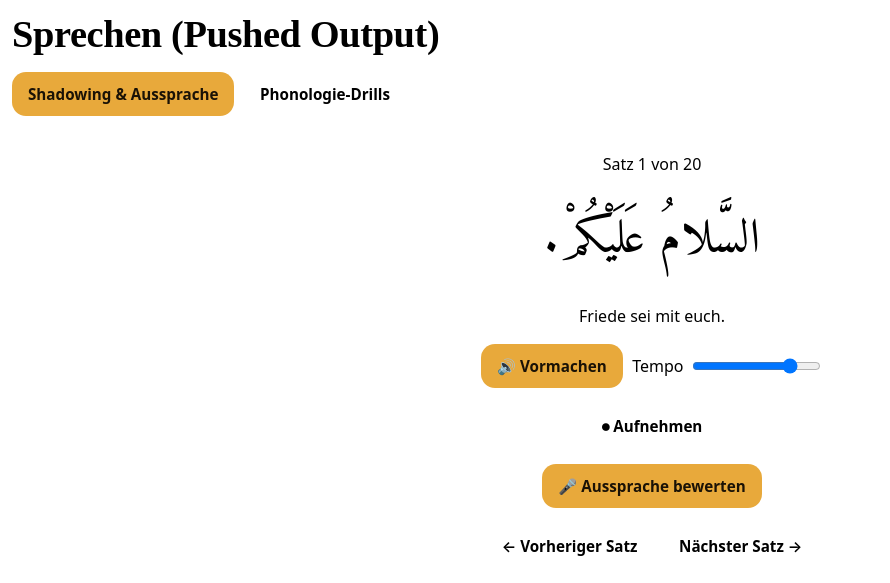
Test: Speaking (integration, letter feedback) › offers no server rating when the class turned it off
Click the button "⏺ Aufnehmen" at x=652, y=426, box x1=586 y1=404 x2=718 y2=448
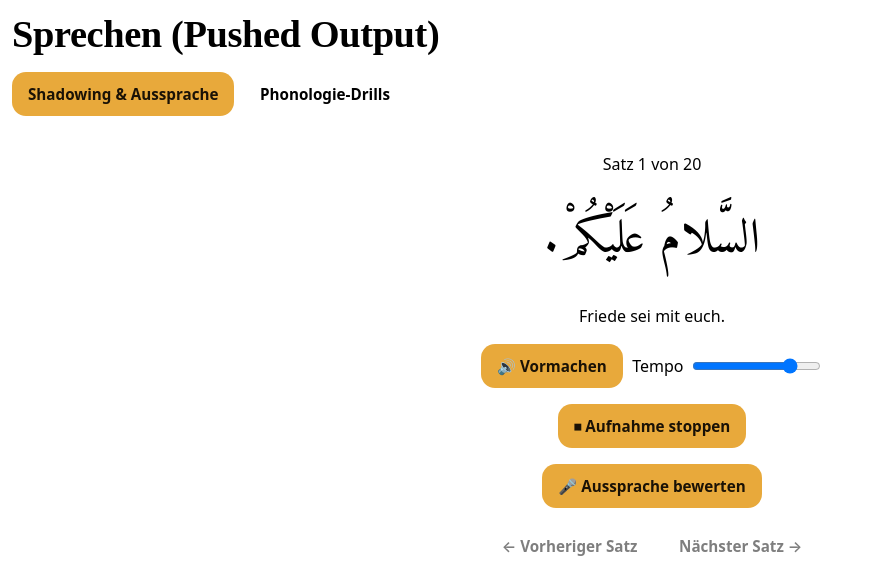
Click the button "⏹ Aufnahme stoppen" at x=652, y=426, box x1=558 y1=404 x2=746 y2=448
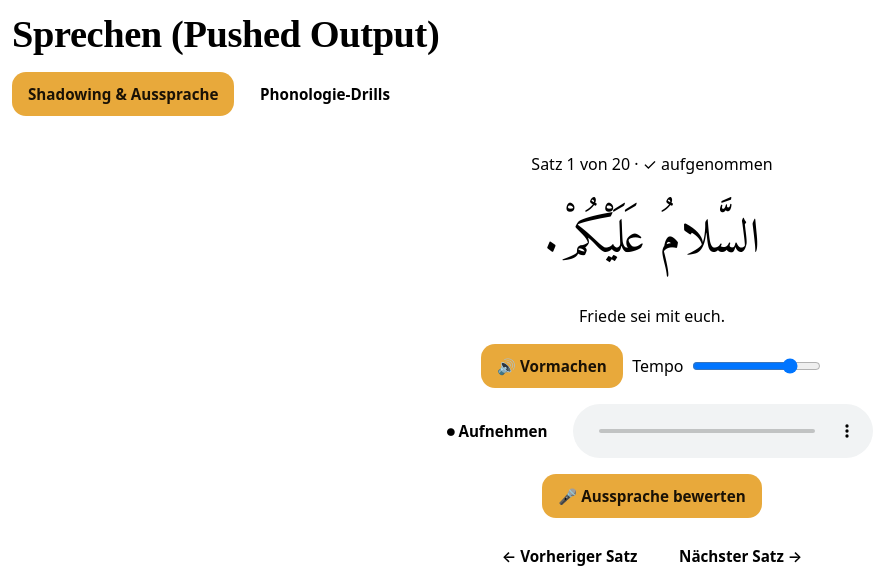
Check: the button "⏺ Aufnehmen" is shown, box x1=431 y1=409 x2=564 y2=453
